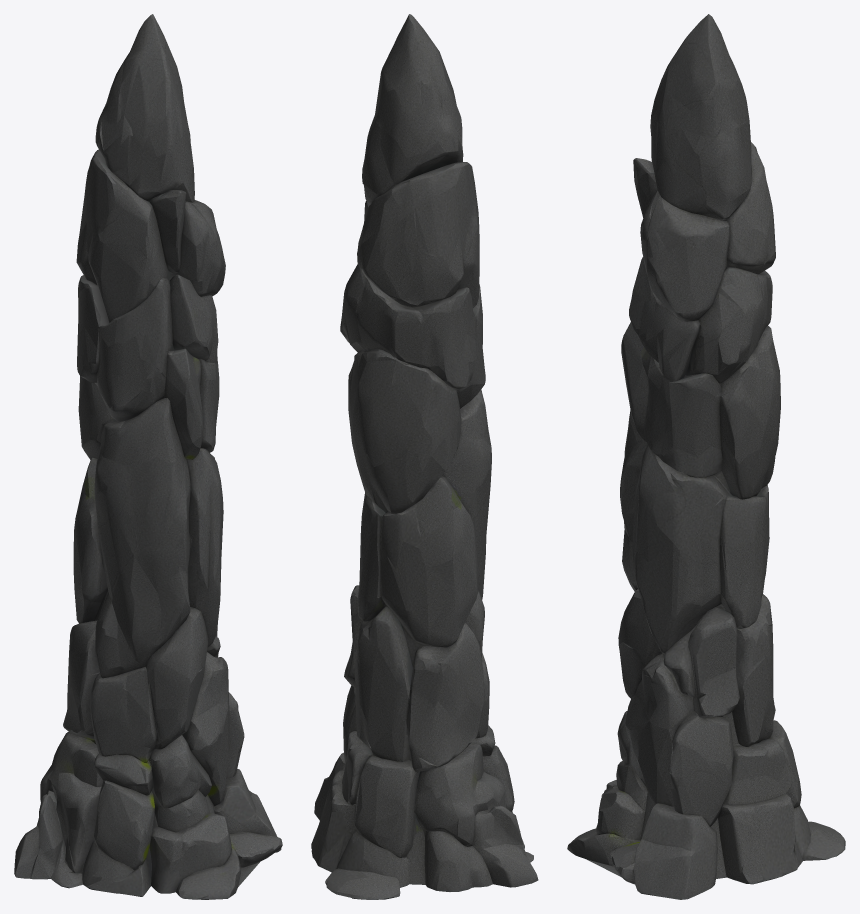
Rendered from rock_spire.glb.
3 views of the same model, side by side, from view 1: azimuth 30°, elevation 25°; view 2: azimuth 150°, elevation 25°; view 3: azimuth 270°, elevation 25° (orthographic).
Size of the model in its own units: 0.5748 by 1.9 by 0.5764.
1 material, 1 textured.
